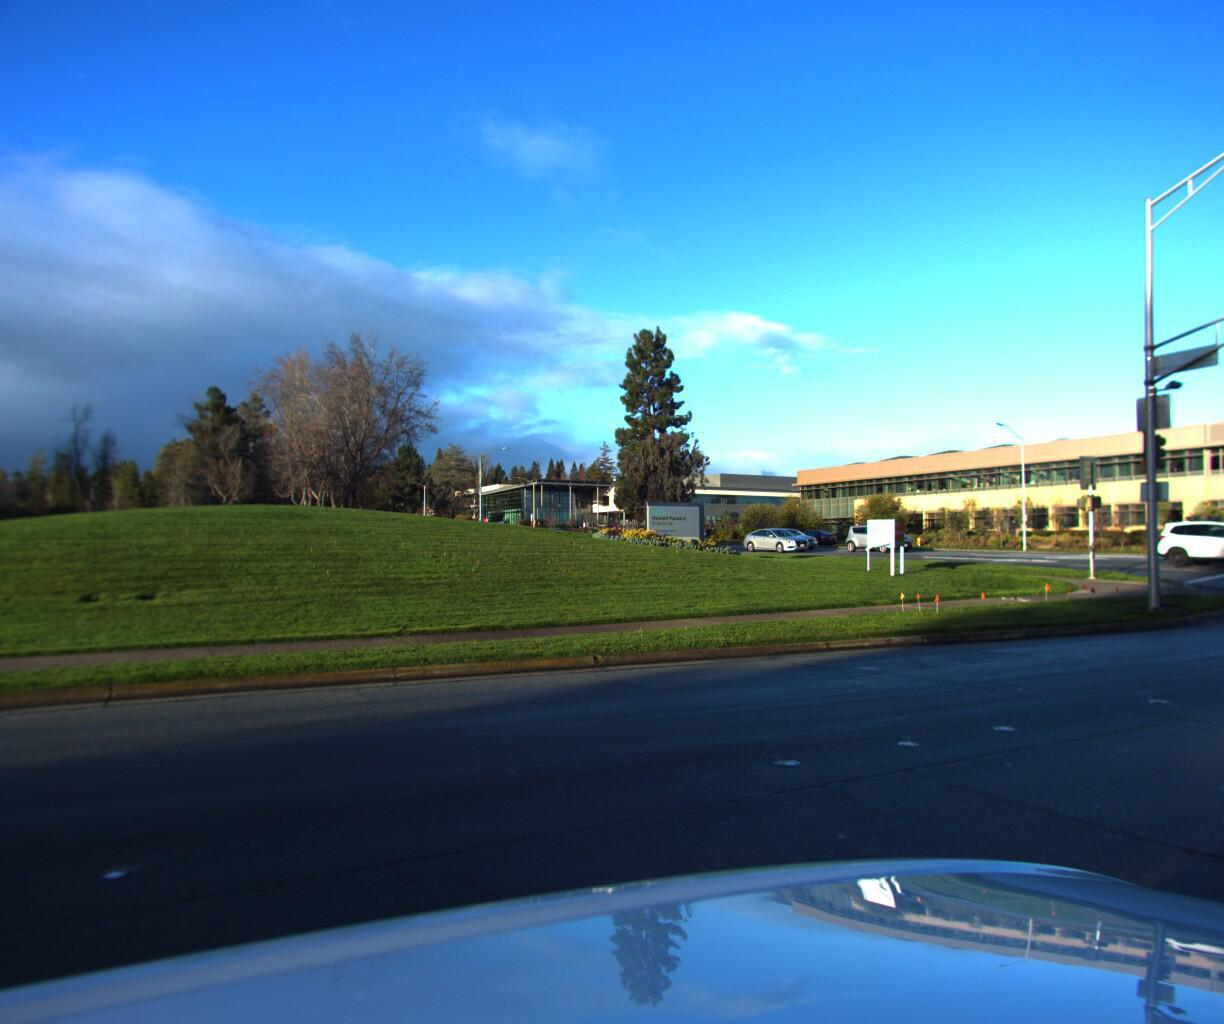car: (1147, 510, 1224, 567), (842, 522, 917, 551), (1176, 517, 1224, 559), (740, 524, 813, 551), (787, 523, 838, 543)
